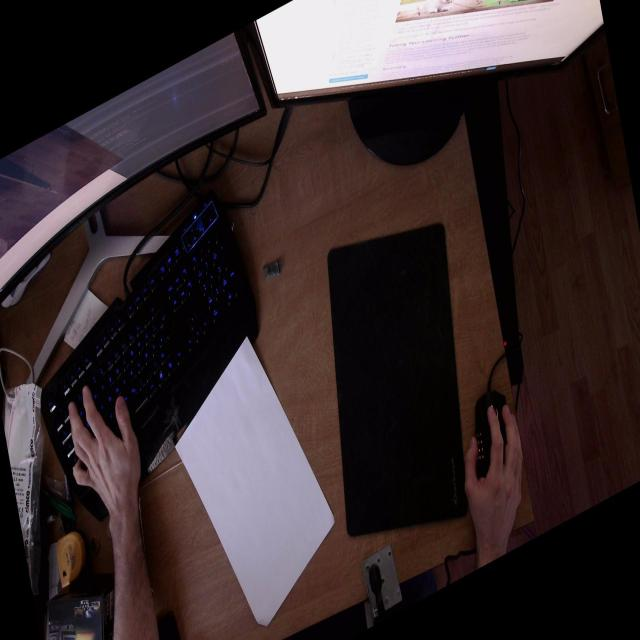keyboard-with-hands: (34, 178, 269, 540)
